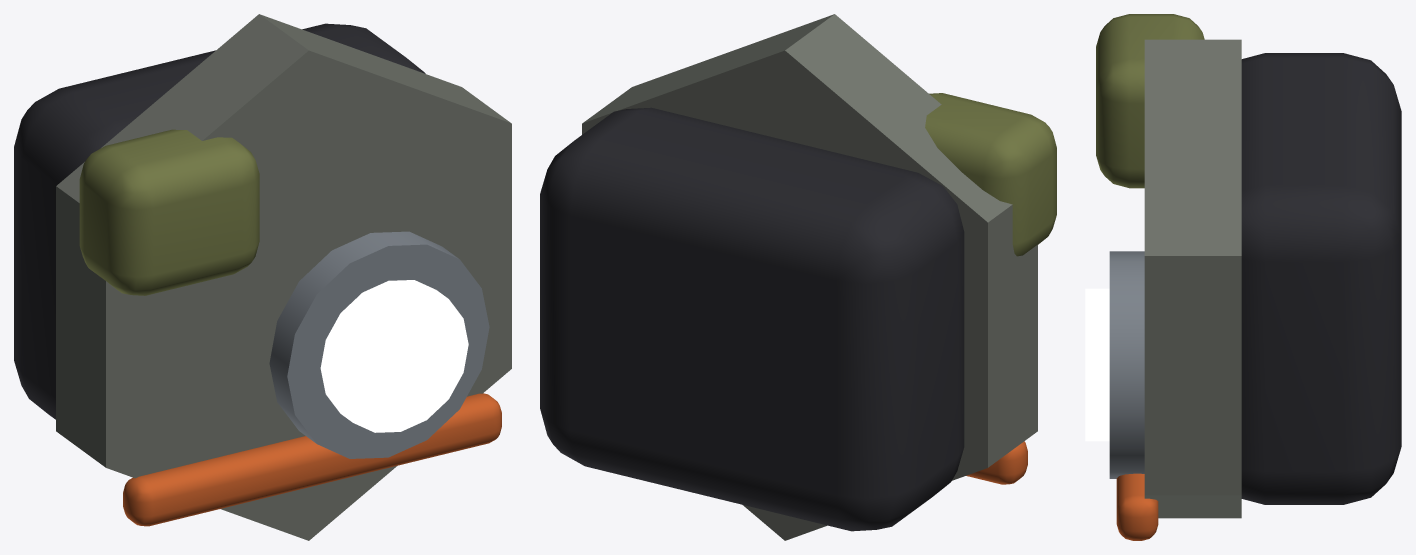
Rendered from co_dynamo.glb.
The picture shows the model from 3 angles, left to right: view 1: azimuth 30°, elevation 25°; view 2: azimuth 150°, elevation 25°; view 3: azimuth 270°, elevation 25°; orthographic projection. The views are drawn at different scales.
Parts seen in each view (by area): view 1: co_dynamo; view 2: co_dynamo; view 3: co_dynamo.
Part boxes in pixels (x1,y1,x2,y2): co_dynamo: (14, 14, 511, 540); co_dynamo: (540, 14, 1056, 540); co_dynamo: (1085, 14, 1401, 540).
Bounding box in the file's own units: 0.1439 × 0.1634 × 0.0978.
